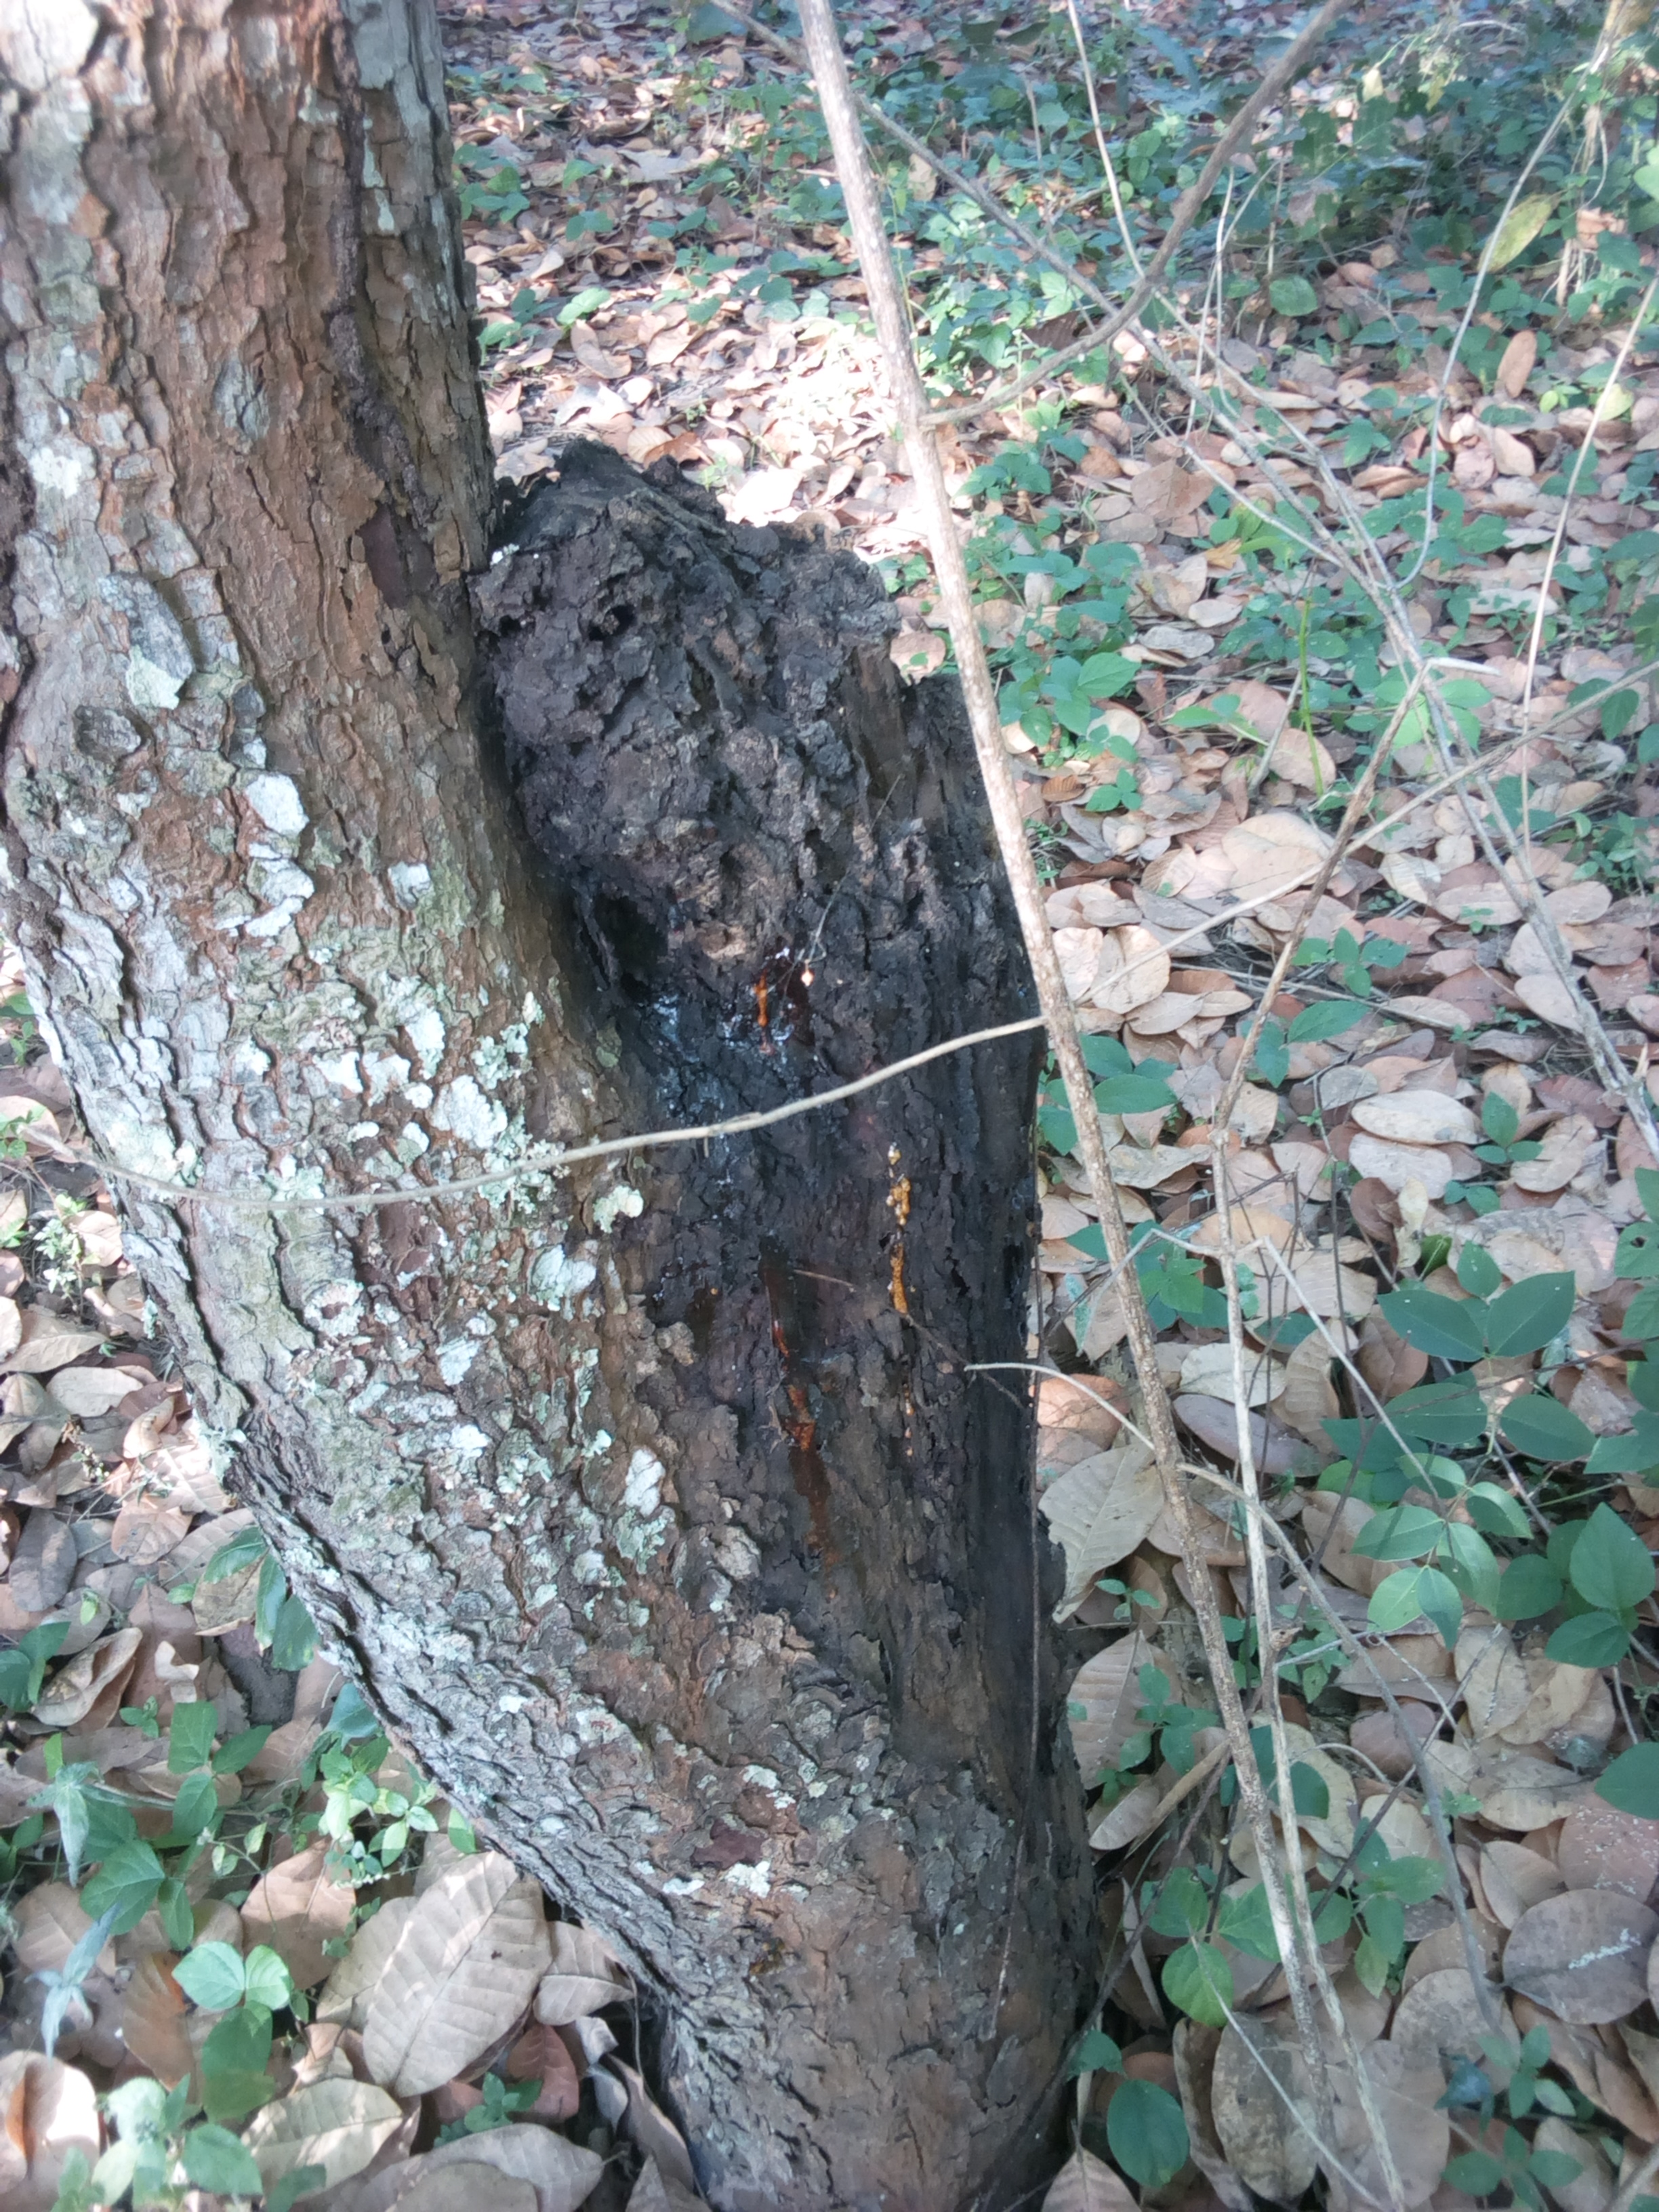Gommose: (603, 934, 955, 1526)
